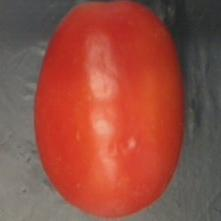unripe: (30, 0, 190, 221)
